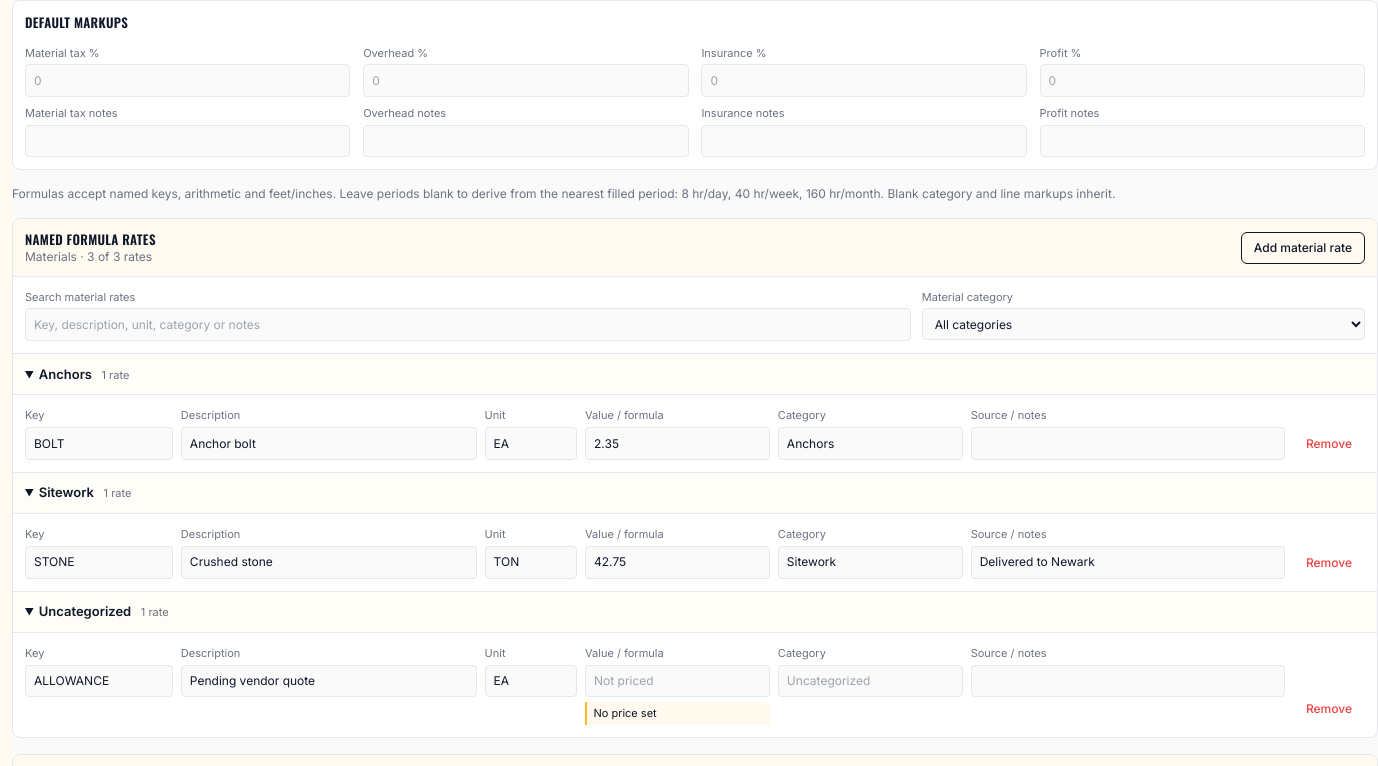
it: RatesEditor › keeps category input focused until committing the move on blur
Replace the text in the 1st field labelled "Category" with "Concrete": (870, 444) [778,427,963,460]
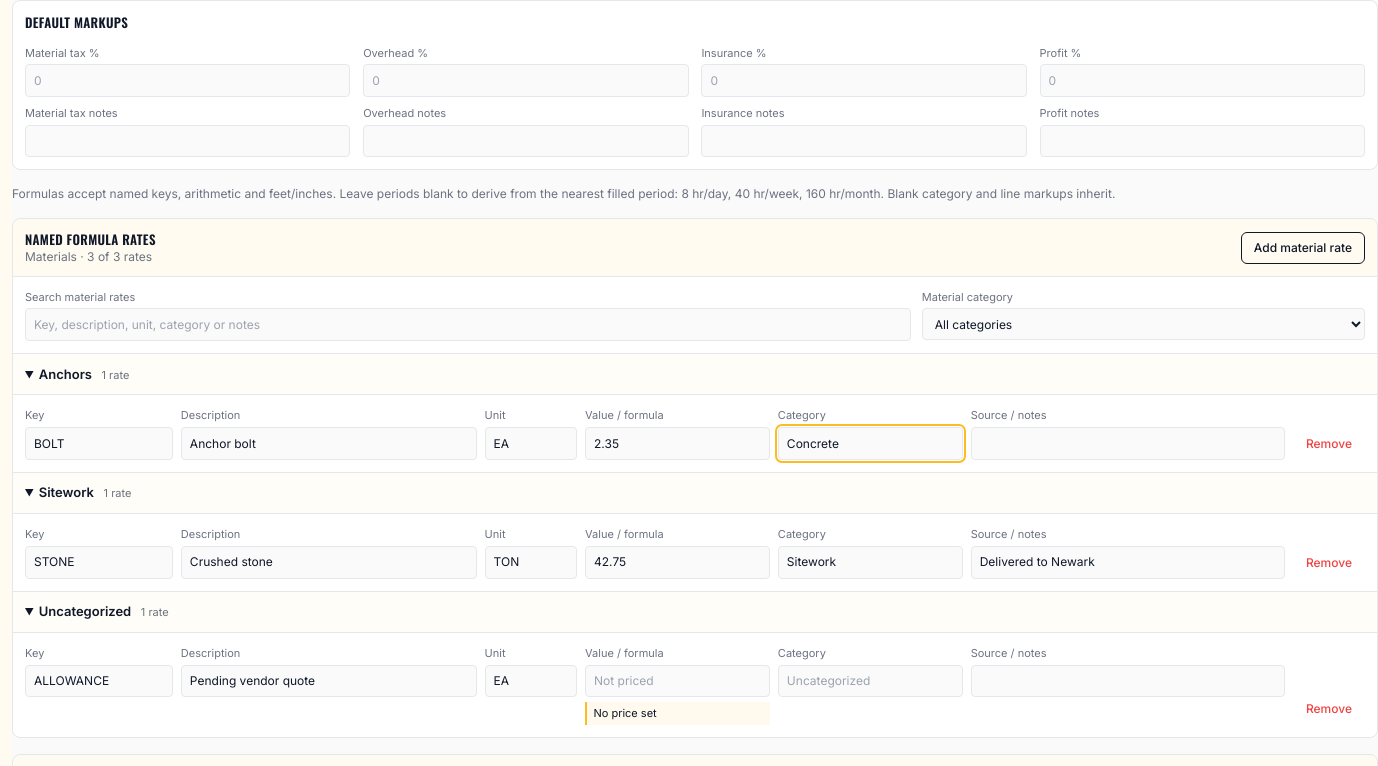
Leave the 1st field labelled "Category", box [778,427,963,460]
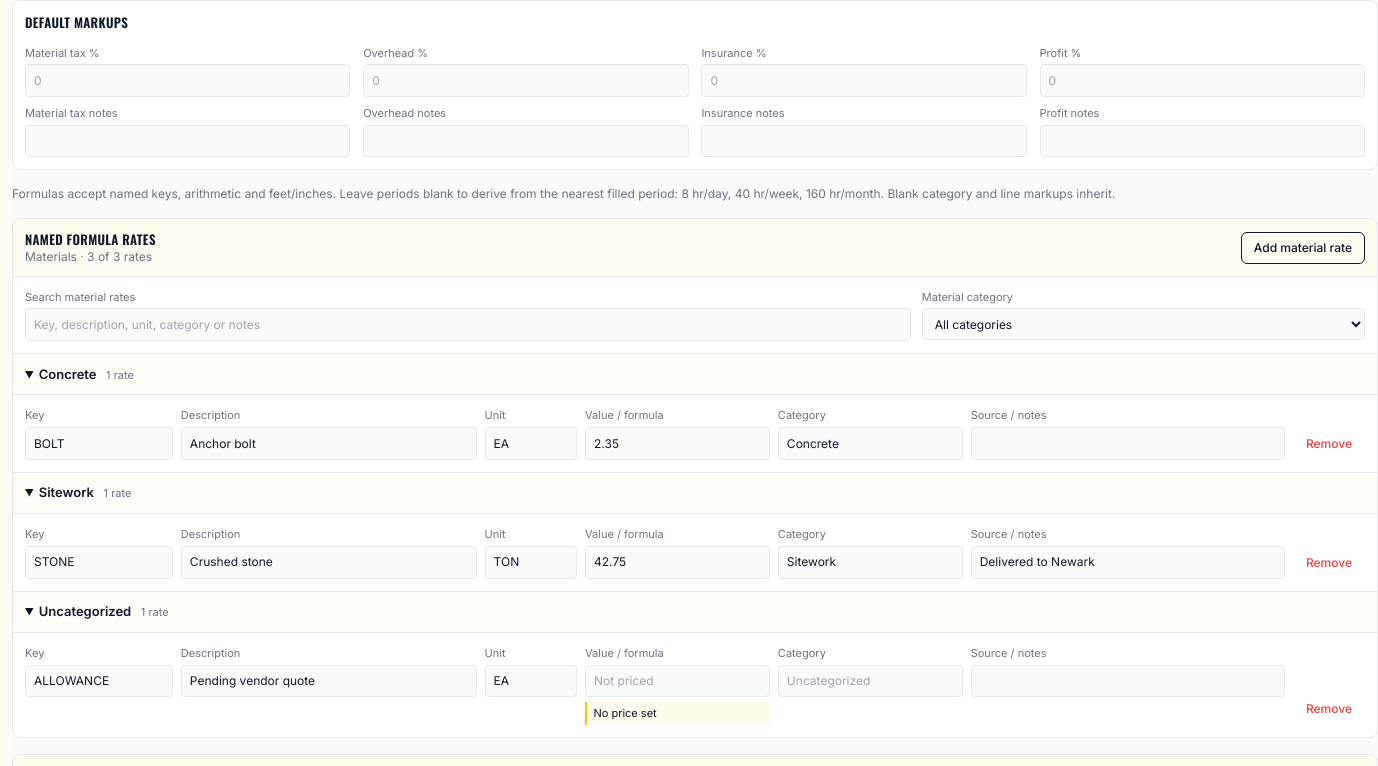
Check: the heading "Concrete1 rate" is shown, box [13,353,1377,396]
